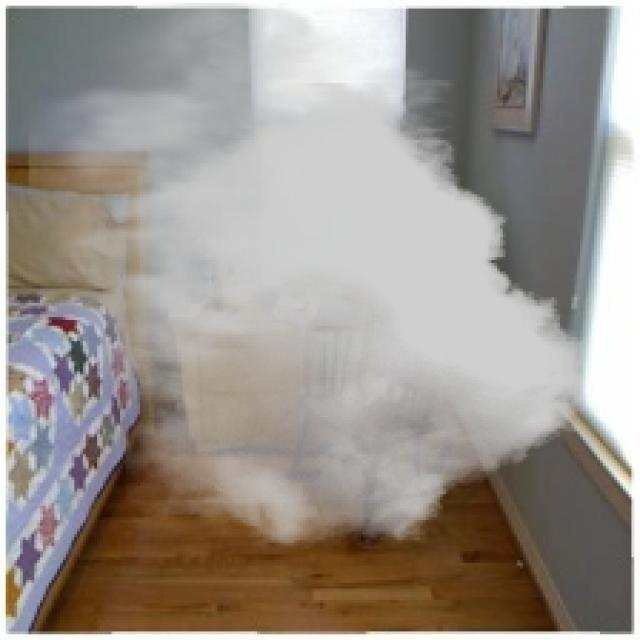smoke: (28, 3, 586, 548)
